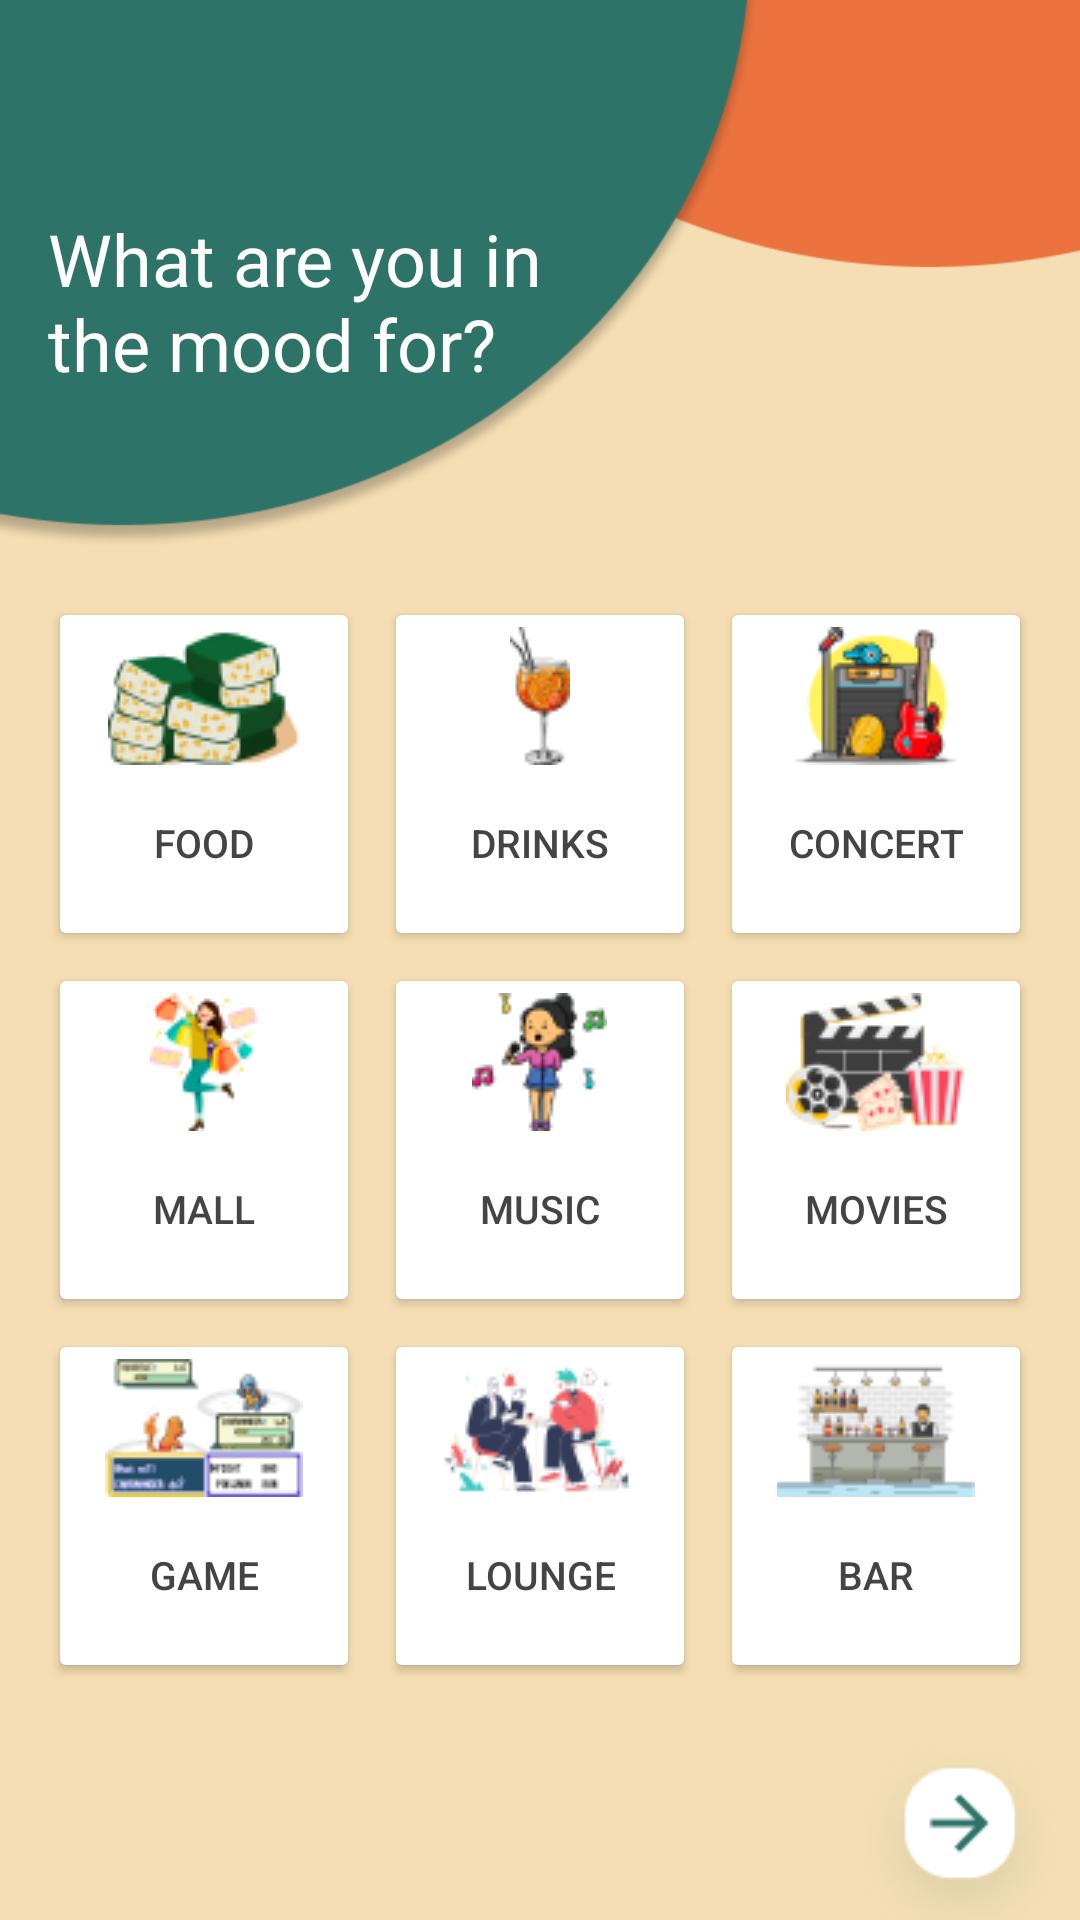

Screen size 1080×1920. Icon name, then its box in pixels as detection(x1, y1, x2, y2):
next: detection(905, 1768, 1015, 1878)
